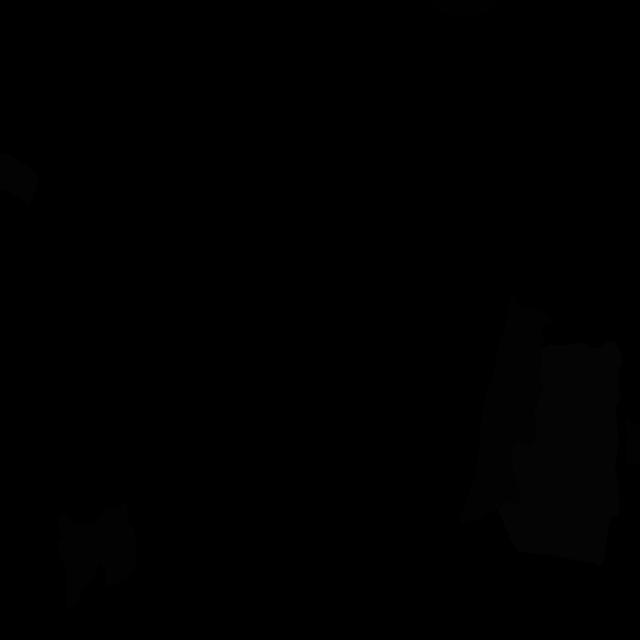cardboard: (459, 295, 552, 525), (57, 503, 136, 611), (624, 419, 640, 467)
metal: (0, 152, 38, 206)
rigid_plastic: (421, 1, 503, 17)
soft_plastic: (498, 341, 623, 566)
